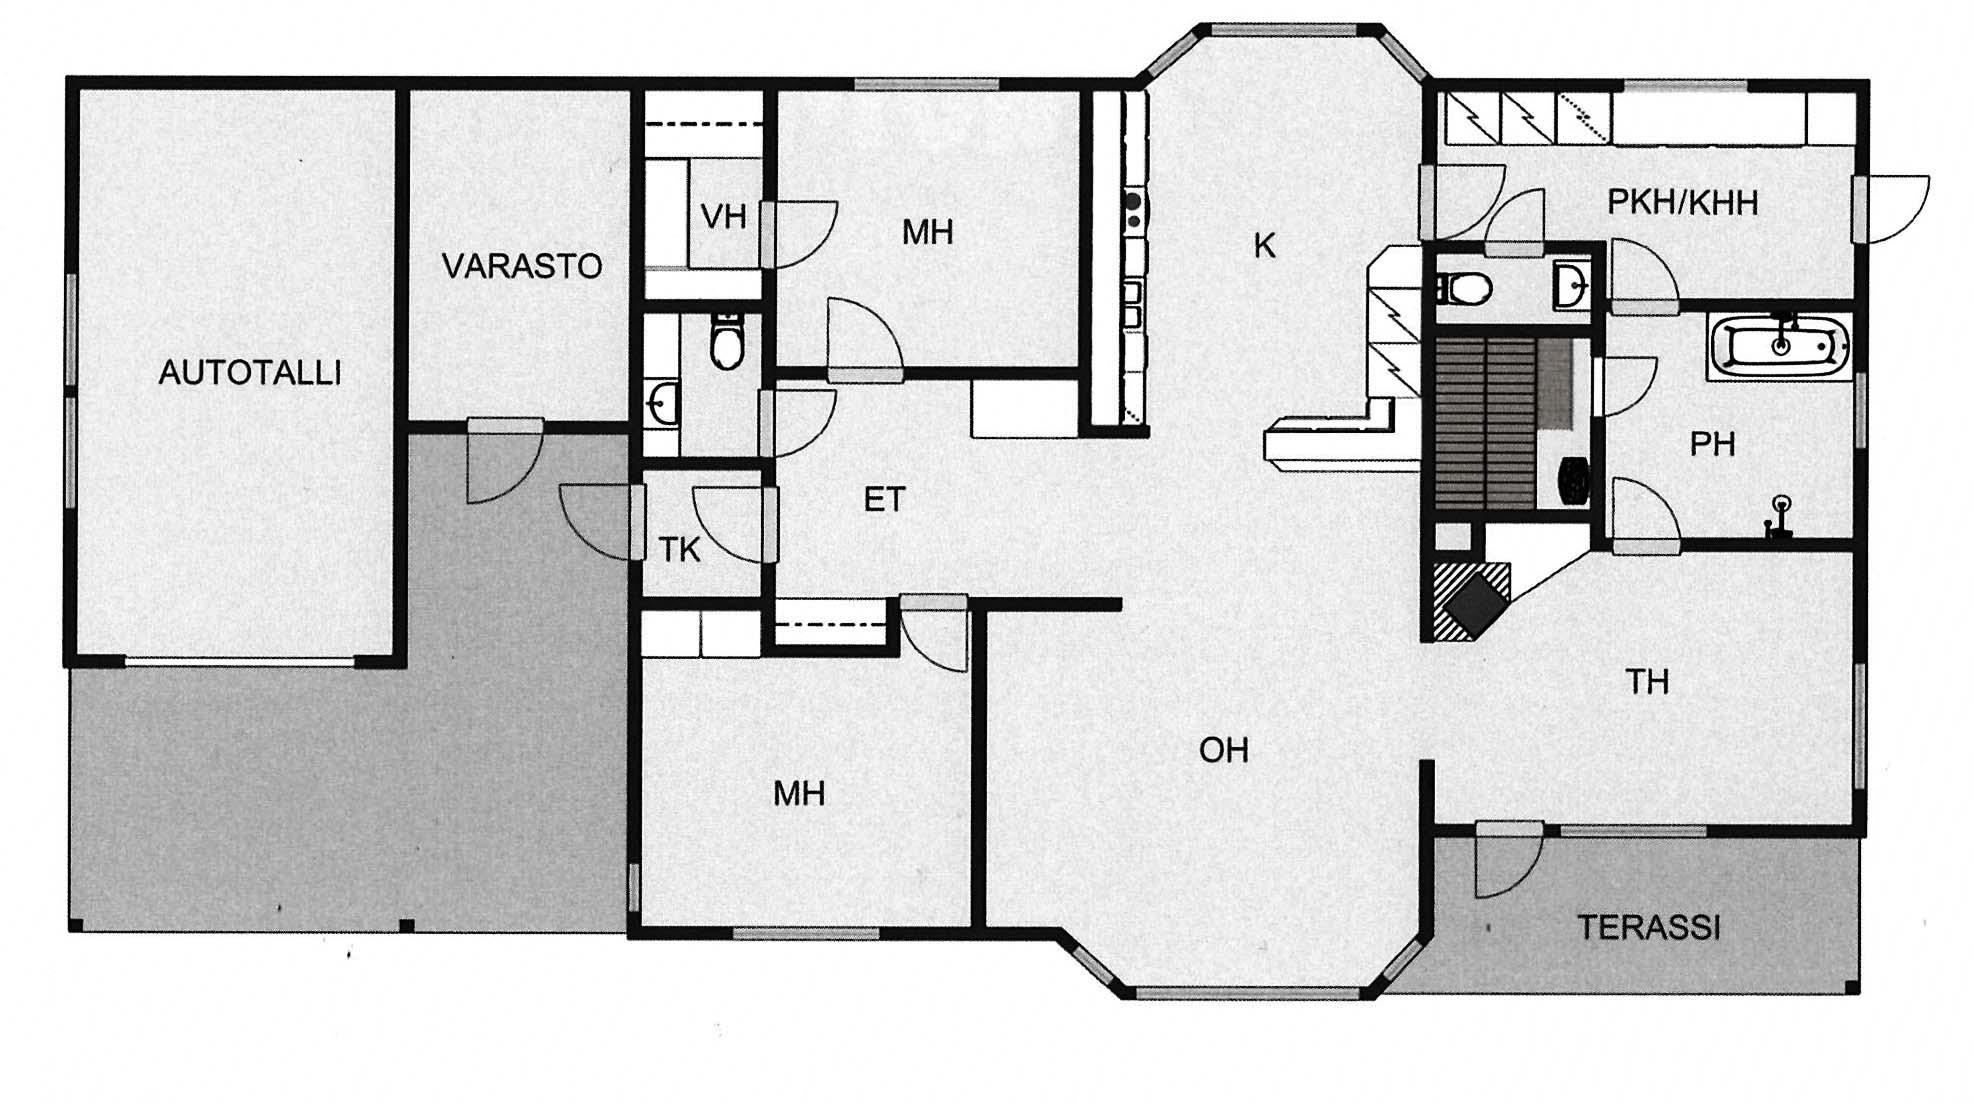bathroom: (1603, 299, 1856, 537), (640, 310, 765, 457), (1433, 249, 1601, 329)
door: (460, 413, 552, 511), (687, 481, 785, 570), (553, 478, 651, 565), (824, 291, 908, 392), (1410, 159, 1510, 237), (746, 196, 843, 276), (1467, 813, 1547, 905), (1608, 473, 1685, 566), (1847, 171, 1933, 251), (899, 584, 971, 678), (1608, 232, 1684, 314), (751, 388, 839, 458), (1478, 184, 1548, 263), (1586, 351, 1661, 416)
perimeter: (628, 76, 1866, 1005), (61, 75, 622, 665)
window: (114, 648, 367, 678), (1131, 978, 1368, 1007), (720, 919, 899, 951), (1608, 73, 1764, 106), (1547, 816, 1714, 844), (1204, 16, 1369, 45), (1847, 654, 1875, 802), (1371, 20, 1432, 88), (1136, 24, 1207, 83), (57, 260, 87, 396), (845, 72, 1011, 95), (1062, 936, 1120, 991), (57, 385, 79, 522), (1372, 938, 1428, 986), (1845, 363, 1874, 454), (624, 856, 648, 921)
